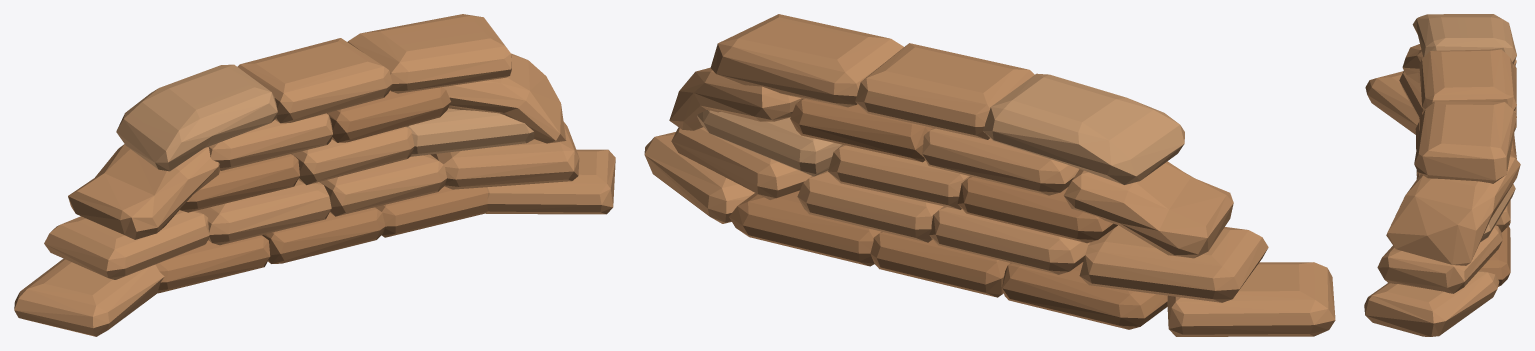
File: SM_Props_Sand_01.glb
3 views of the same model, side by side, from view 1: azimuth 30°, elevation 25°; view 2: azimuth 150°, elevation 25°; view 3: azimuth 270°, elevation 25° (orthographic). The views are drawn at different scales.
Visible parts, largest first — view 1: SM_Props_Sand_01; view 2: SM_Props_Sand_01; view 3: SM_Props_Sand_01.
Boxes of the visible parts, x1=… form: SM_Props_Sand_01: x1=14, y1=14, x2=615, y2=336; SM_Props_Sand_01: x1=644, y1=14, x2=1335, y2=336; SM_Props_Sand_01: x1=1364, y1=14, x2=1520, y2=336.
Bounding box in the file's own units: 3.26 × 0.9103 × 0.8348.
1 material, 1 textured.
